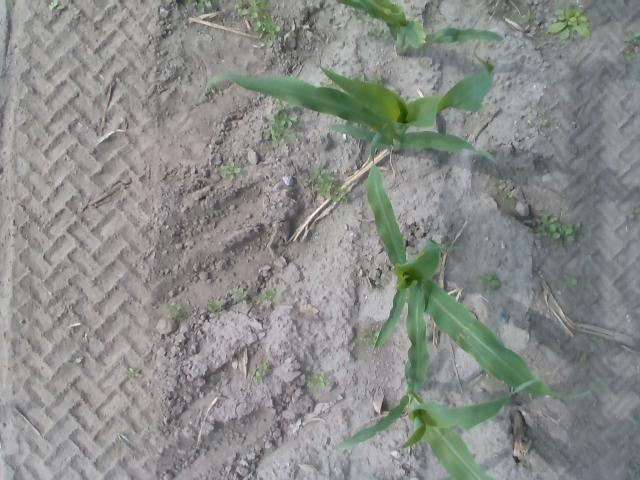Maize: (371, 162, 594, 399), (197, 61, 498, 168), (331, 378, 541, 480), (335, 2, 504, 57)
Weeds: (240, 2, 280, 46), (312, 166, 354, 205), (546, 8, 594, 40), (536, 213, 578, 248), (261, 107, 298, 145), (476, 270, 504, 298), (624, 27, 640, 70), (300, 368, 327, 388), (252, 358, 272, 384), (258, 284, 280, 304), (222, 161, 242, 183), (188, 0, 216, 14), (229, 285, 251, 302), (123, 363, 142, 380), (208, 299, 224, 318), (168, 304, 184, 322), (376, 272, 390, 292), (624, 203, 640, 219), (364, 328, 378, 346), (536, 118, 552, 129)
